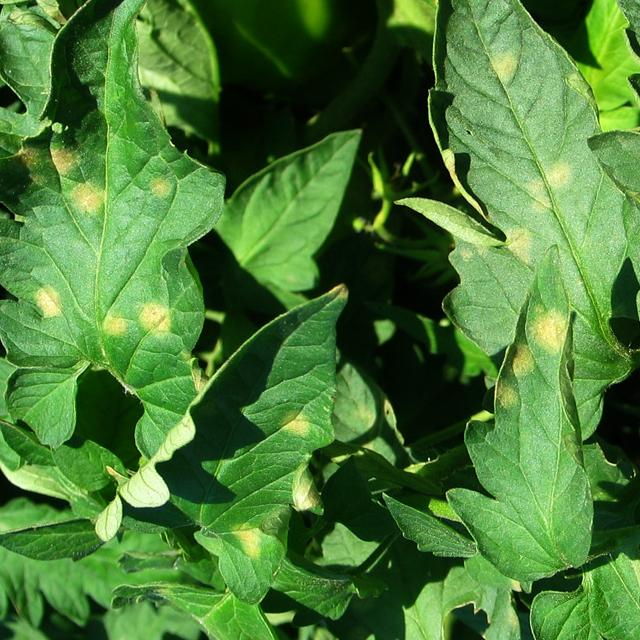Tomato mold leaf: (381, 0, 640, 393), (0, 0, 205, 467), (106, 300, 354, 594), (465, 243, 595, 584), (593, 0, 640, 220), (623, 157, 640, 580)
